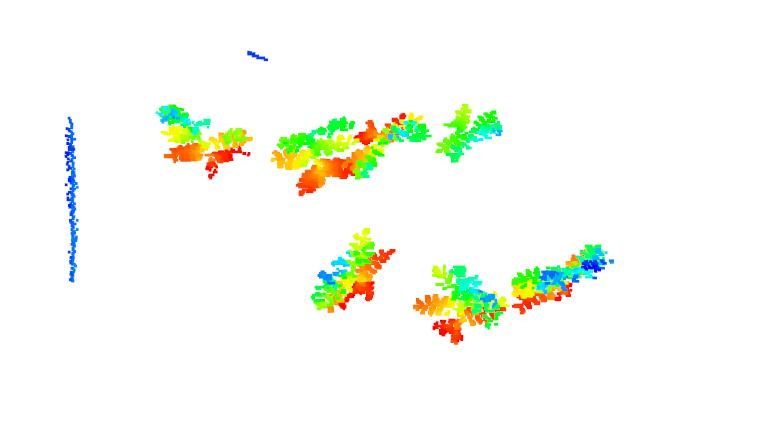chickpea: (412, 264, 510, 346), (150, 102, 253, 178), (507, 243, 612, 314), (272, 109, 358, 195), (311, 226, 396, 311), (355, 106, 437, 181), (434, 100, 505, 165)
